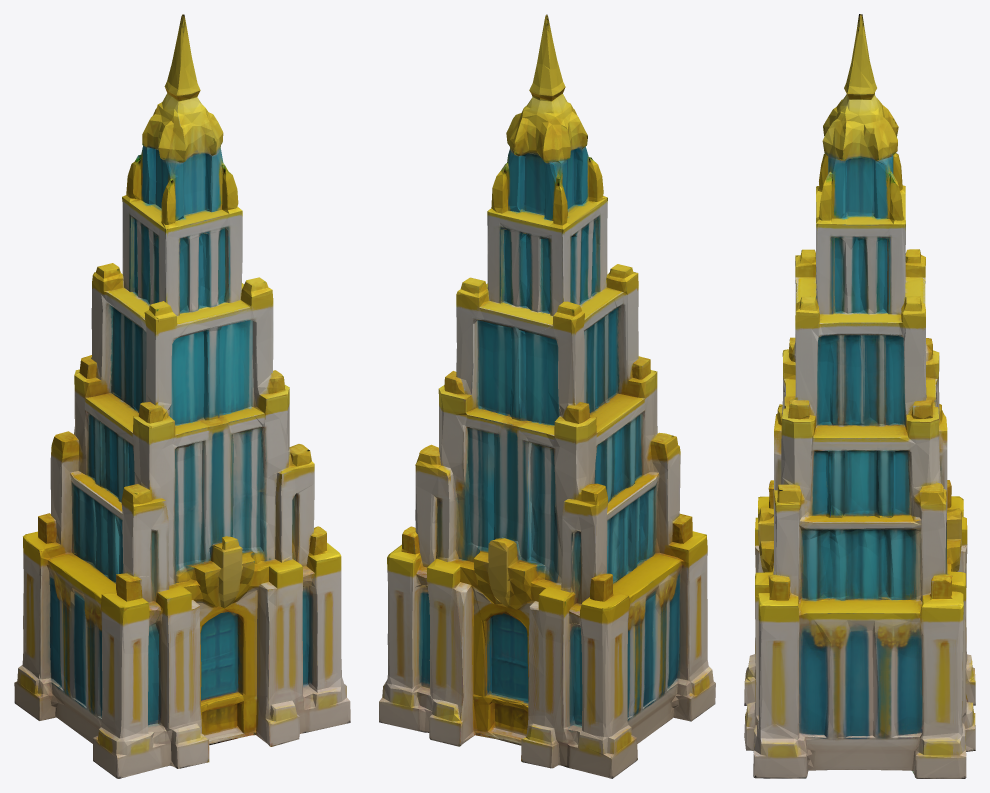
Rendered from skyscraper_deco.glb.
3 renders of one model, left to right at view 1: azimuth 30°, elevation 25°; view 2: azimuth 150°, elevation 25°; view 3: azimuth 270°, elevation 25°, orthographic.
Visible parts, largest first — view 1: geometry_0; view 2: geometry_0; view 3: geometry_0.
Boxes of the visible parts, x1=… form: geometry_0: x1=14, y1=14, x2=350, y2=778; geometry_0: x1=379, y1=14, x2=715, y2=778; geometry_0: x1=744, y1=14, x2=975, y2=778.
Size of the model in its own units: 0.3511 by 1 by 0.2966.
Materials: 1 (1 with a texture image).
